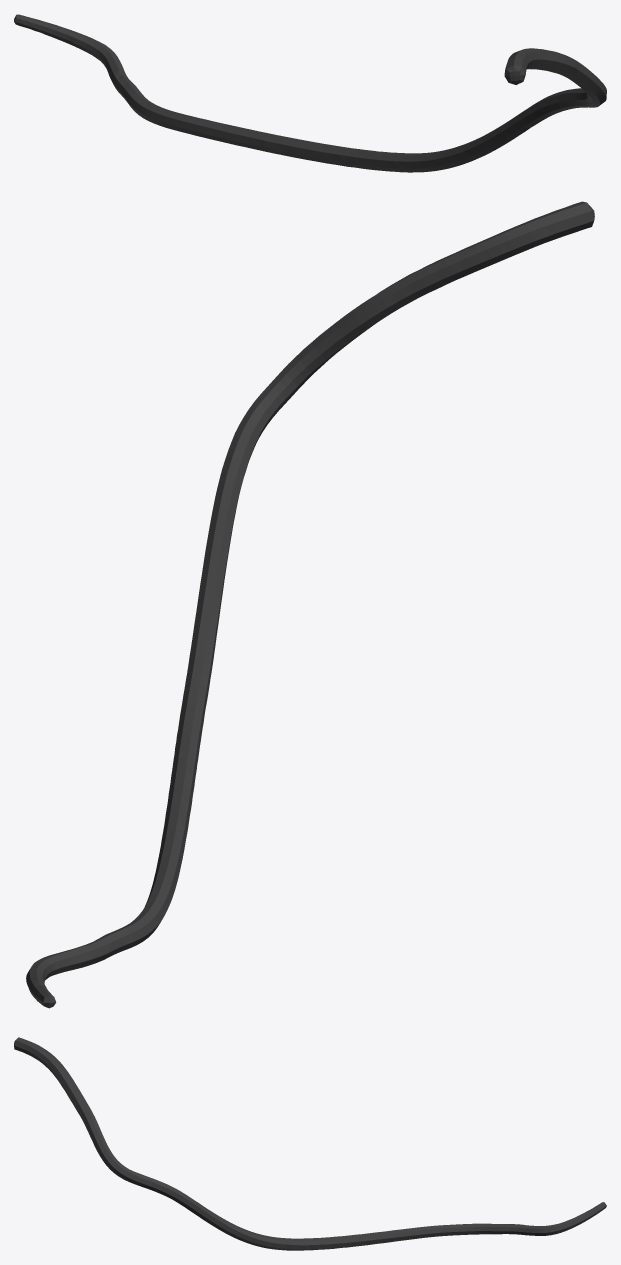
File: Inferior_alveolar_nn_001.glb
3 renders of one model, top to bottom at view 1: azimuth 30°, elevation 25°; view 2: azimuth 150°, elevation 25°; view 3: azimuth 270°, elevation 25°, orthographic. The views are drawn at different scales.
Visible parts, largest first — view 1: Inferior_alveolar_nn_001; view 2: Inferior_alveolar_nn_001; view 3: Inferior_alveolar_nn_001.
Boxes of the visible parts, bbox=[...] form: Inferior_alveolar_nn_001: bbox=[14, 14, 606, 172]; Inferior_alveolar_nn_001: bbox=[26, 201, 594, 1008]; Inferior_alveolar_nn_001: bbox=[14, 1037, 606, 1250].
Bounding box in the file's own units: 0.1498 × 0.2078 × 0.5591.
1 material, 1 textured.
